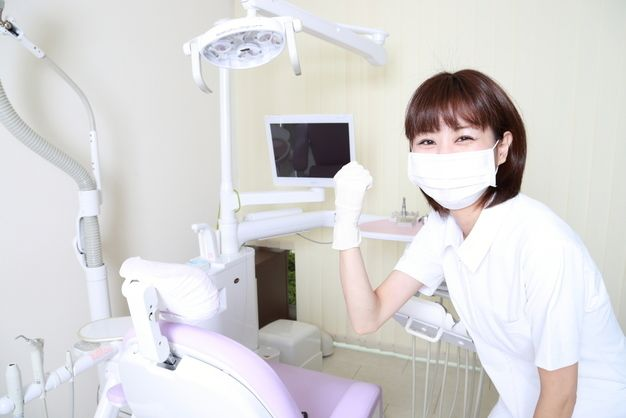mask: (407, 147, 502, 212)
